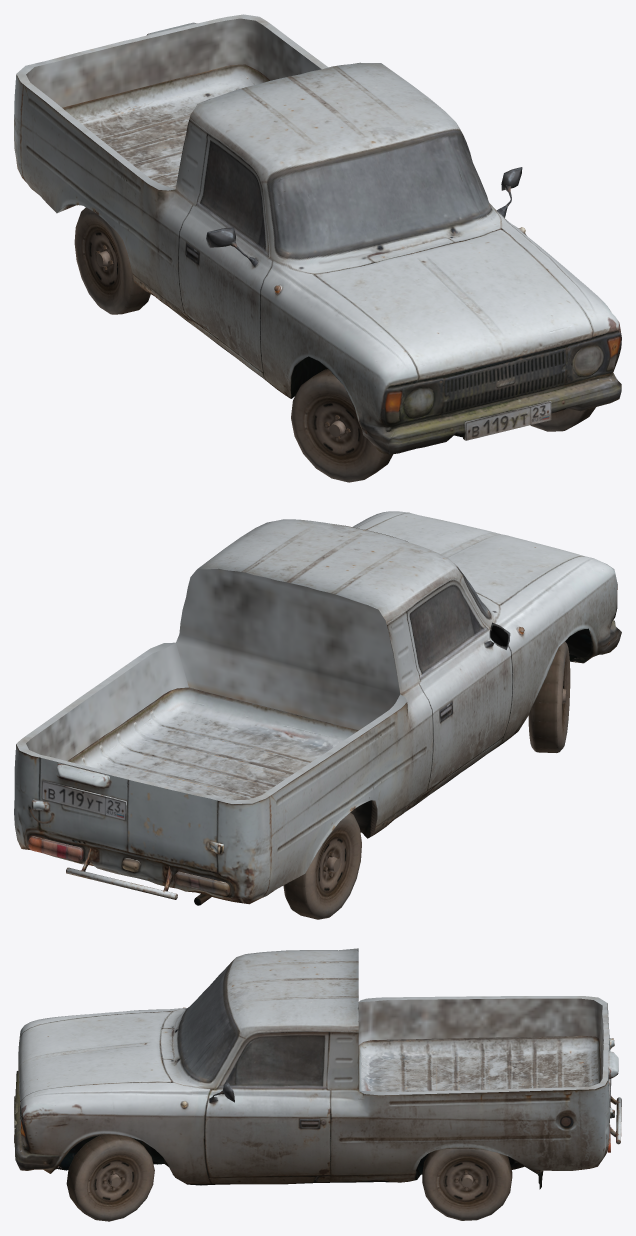
Rendered from izh-2715-pickup.glb.
The picture shows the model from 3 angles, top to bottom: view 1: azimuth 30°, elevation 25°; view 2: azimuth 150°, elevation 25°; view 3: azimuth 270°, elevation 25°; orthographic projection. The views are drawn at different scales.
Parts seen in each view (by area): view 1: OldCar, Cylinder, Cylinder.001, Cylinder.002; view 2: OldCar, Cylinder.001, Cylinder; view 3: OldCar, Cylinder.002, Cylinder.003.
Part boxes in pixels (<box>): OldCar: <box>14,14,621,454</box>; Cylinder: <box>291,369,393,482</box>; Cylinder.001: <box>74,207,150,314</box>; Cylinder.002: <box>530,407,595,431</box>; OldCar: <box>14,511,621,905</box>; Cylinder.001: <box>283,812,361,919</box>; Cylinder: <box>528,641,570,752</box>; OldCar: <box>14,948,621,1189</box>; Cylinder.002: <box>66,1134,154,1221</box>; Cylinder.003: <box>422,1148,512,1220</box>.
Size of the model in its own units: 2.03 by 1.64 by 4.49.
Materials: 1 (1 with a texture image).
